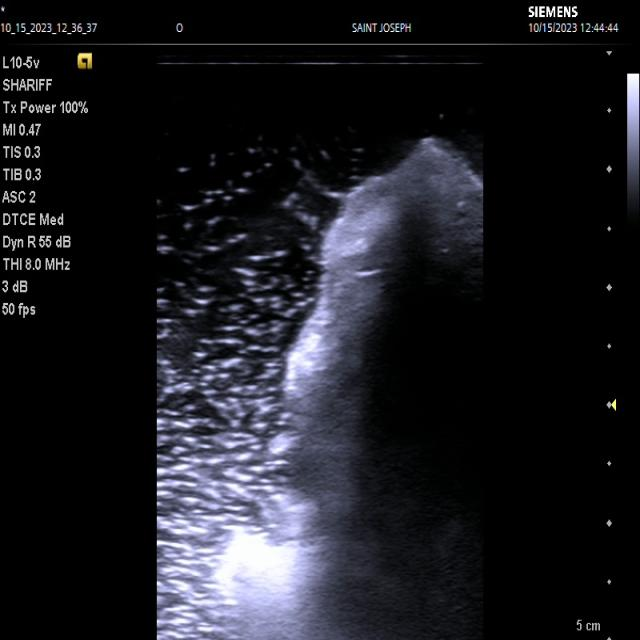tissue: (215, 140, 485, 640)
